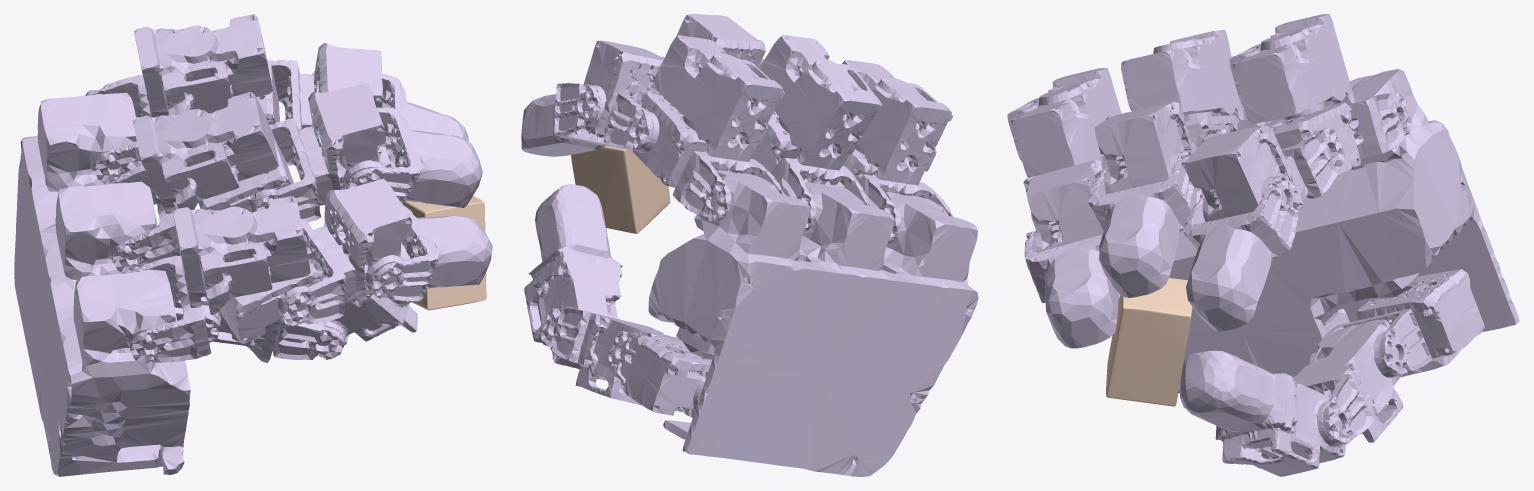
File: 063d85bad82ef0-closed.glb
The picture shows the model from 3 angles, left to right: view 1: azimuth 30°, elevation 25°; view 2: azimuth 150°, elevation 25°; view 3: azimuth 270°, elevation 25°; orthographic projection. The views are drawn at different scales.
Visible parts, largest first — view 1: LEAP_hand, world; view 2: LEAP_hand, world; view 3: LEAP_hand, world.
Part boxes in pixels (left/top/right/bottom): LEAP_hand: left=14, top=14, right=492, bottom=476; world: left=403, top=195, right=486, bottom=310; LEAP_hand: left=521, top=14, right=978, bottom=476; world: left=571, top=146, right=670, bottom=233; LEAP_hand: left=1007, top=14, right=1519, bottom=476; world: left=1106, top=278, right=1192, bottom=406.
Bounding box in the file's own units: 0.184 × 0.1664 × 0.1815.
